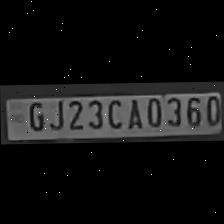0: (142, 94, 164, 127), (201, 91, 221, 124)
2: (64, 95, 84, 128)
3: (84, 95, 103, 128), (164, 92, 182, 125)
6: (182, 92, 200, 125)
A: (122, 94, 142, 128)
C: (102, 94, 124, 128)
G: (24, 98, 46, 130)
J: (46, 96, 64, 128)
